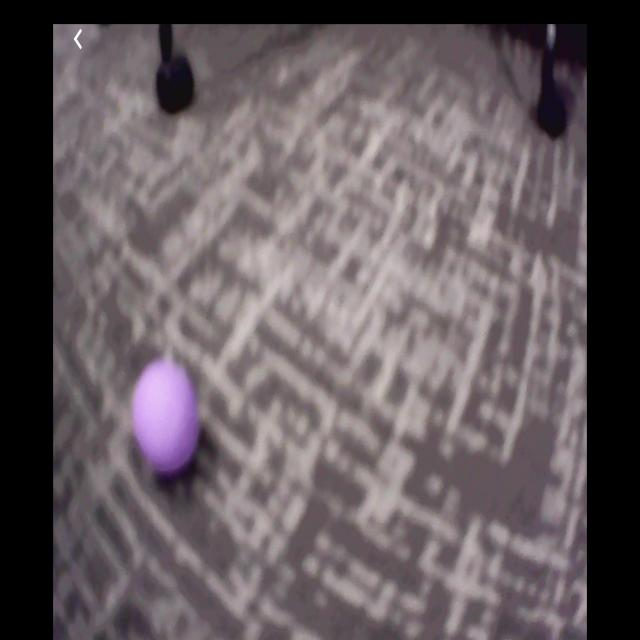ball: (134, 358, 203, 479)
